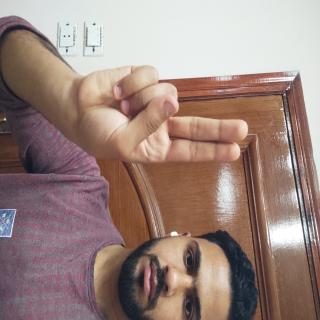TA: (44, 94, 124, 320)
